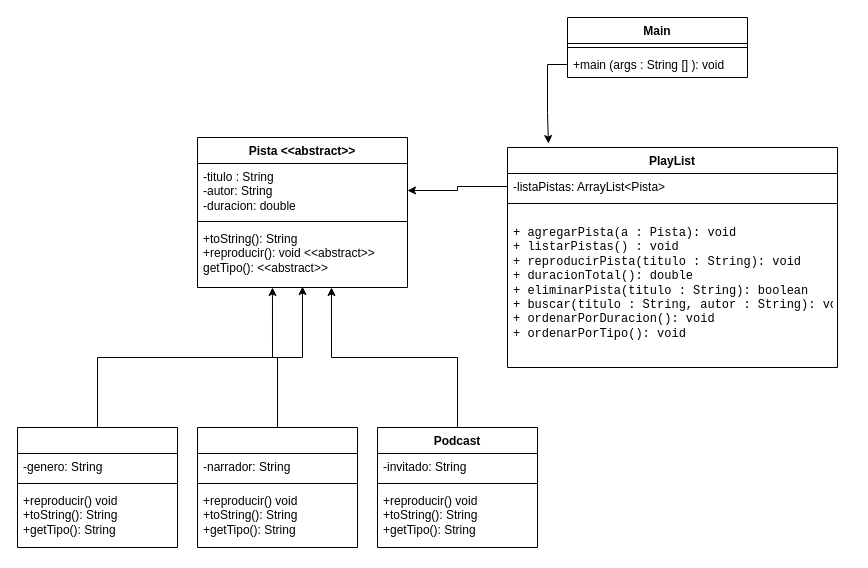
The diagram is 868 pixels wide and 568 high, and some of its shapes have lost their labels. The box of each missing label's shape, as (x1, y1, x2, y2) in pixels:
Audio Libro: (196, 426, 358, 548)
Cancion: (16, 426, 178, 548)
